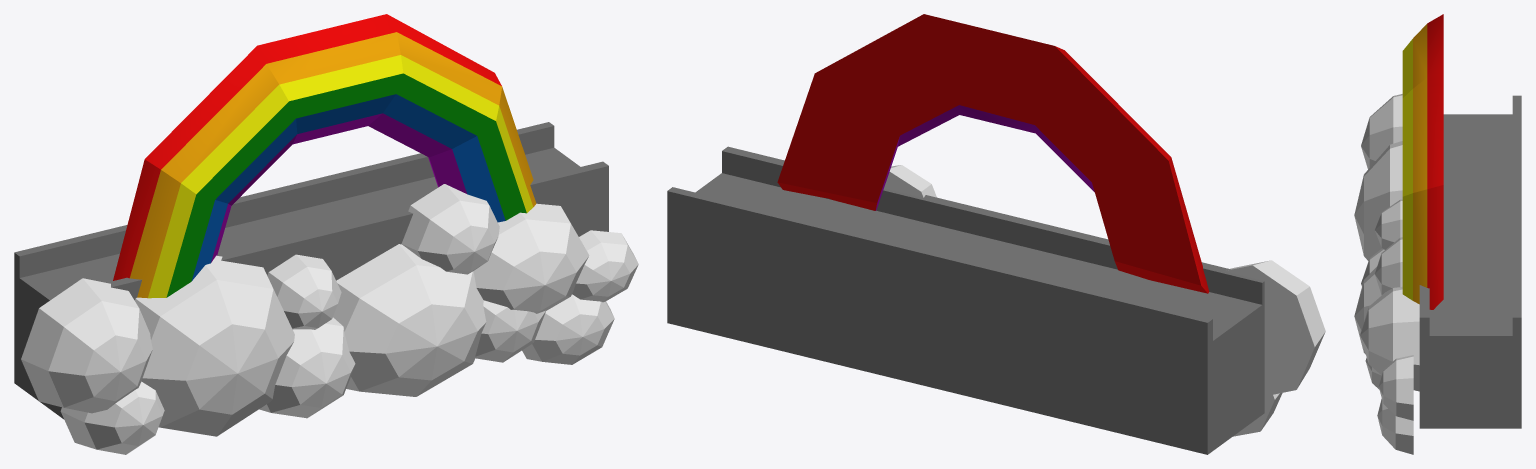
The model's file is platform_2.fbx.
3 views of the same model, side by side, from view 1: azimuth 30°, elevation 25°; view 2: azimuth 150°, elevation 25°; view 3: azimuth 270°, elevation 25° (orthographic). The views are drawn at different scales.
Visible parts, largest first — view 1: pTorus1, pSphere38, pSphere37, pCube3; view 2: pCube3, pTorus1, pSphere38, pSphere37; view 3: pCube3, pTorus1, pSphere37, pSphere38.
Part boxes in pixels (x1=…): pTorus1: x1=113, y1=14, x2=536, y2=298; pSphere38: x1=21, y1=254, x2=355, y2=454; pSphere37: x1=333, y1=184, x2=638, y2=396; pCube3: x1=14, y1=122, x2=608, y2=419; pCube3: x1=667, y1=146, x2=1264, y2=454; pTorus1: x1=777, y1=14, x2=1209, y2=293; pSphere38: x1=1224, y1=260, x2=1325, y2=436; pSphere37: x1=884, y1=165, x2=936, y2=197; pCube3: x1=1419, y1=95, x2=1521, y2=428; pTorus1: x1=1402, y1=14, x2=1443, y2=309; pSphere37: x1=1354, y1=237, x2=1419, y2=454; pSphere38: x1=1354, y1=94, x2=1402, y2=285.
Size of the model in its own units: 5.83 by 3.44 by 1.64.
